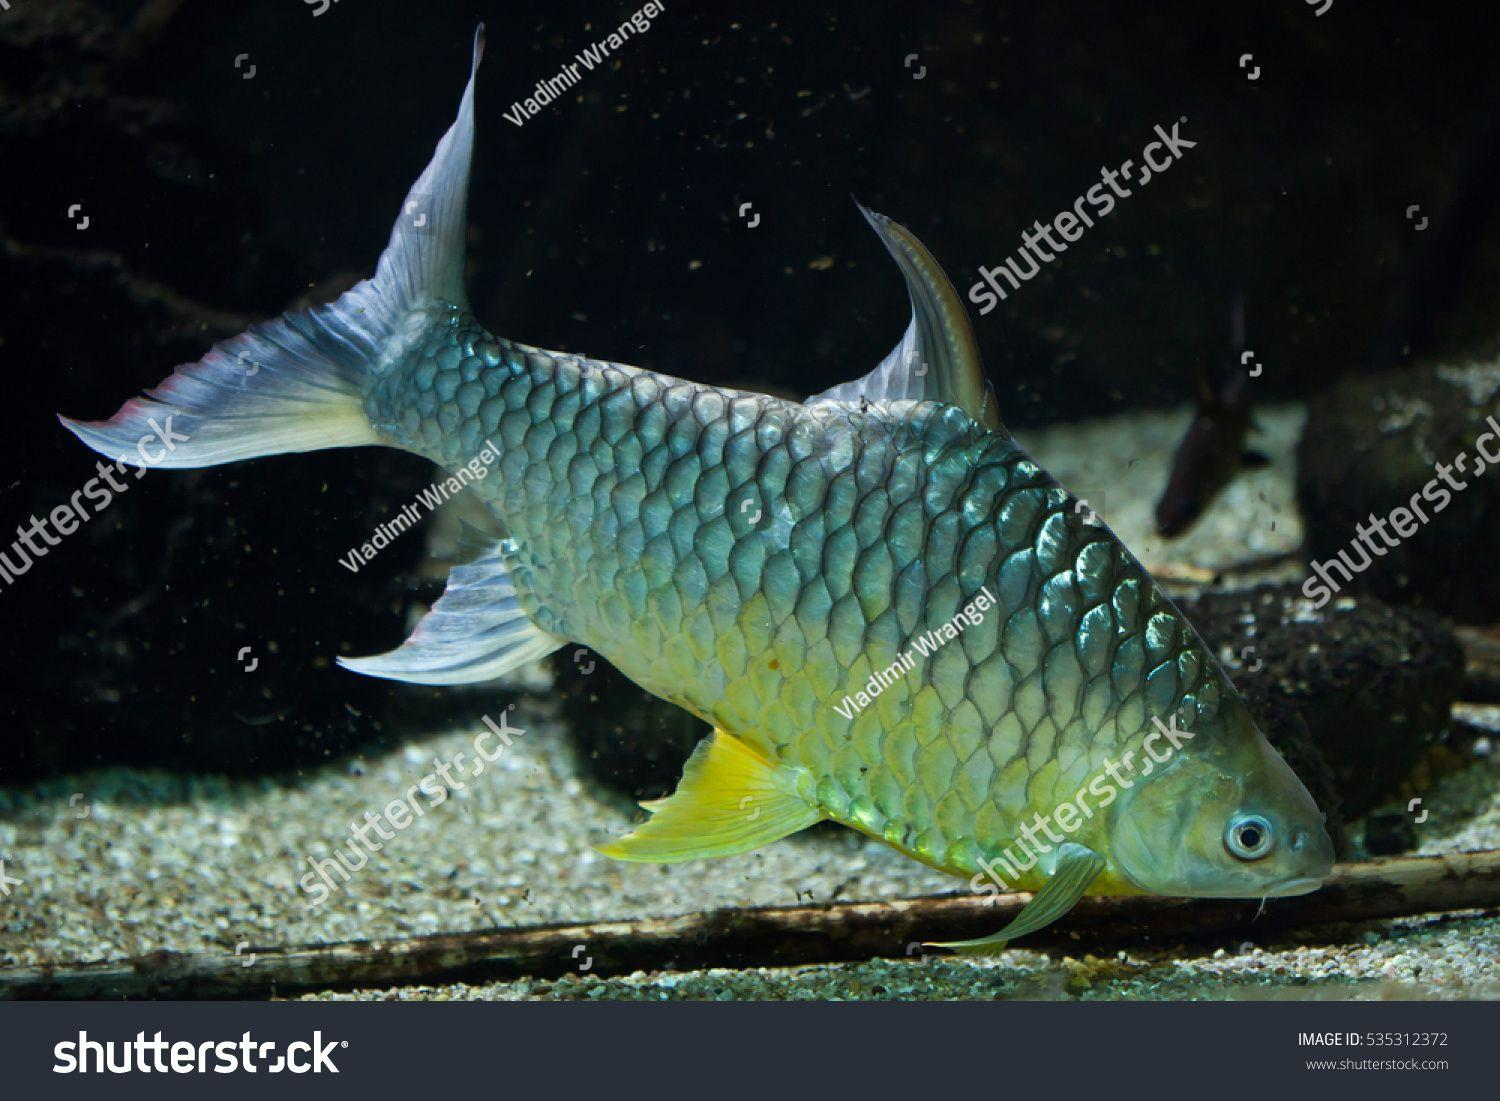Silver Barb: (84, 0, 1345, 890)
